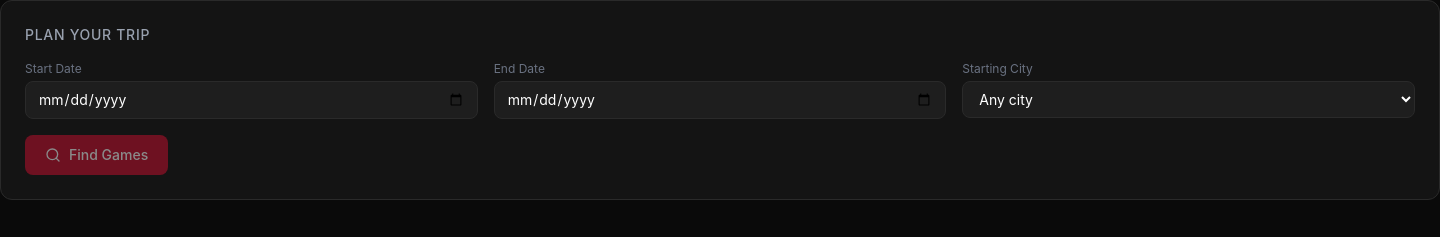
it: TripForm — submission › shows an error when end date is before start date
Type "2025-07-10" into the date field below "Start Date" at x=251, y=100, box [25,81,478,119]
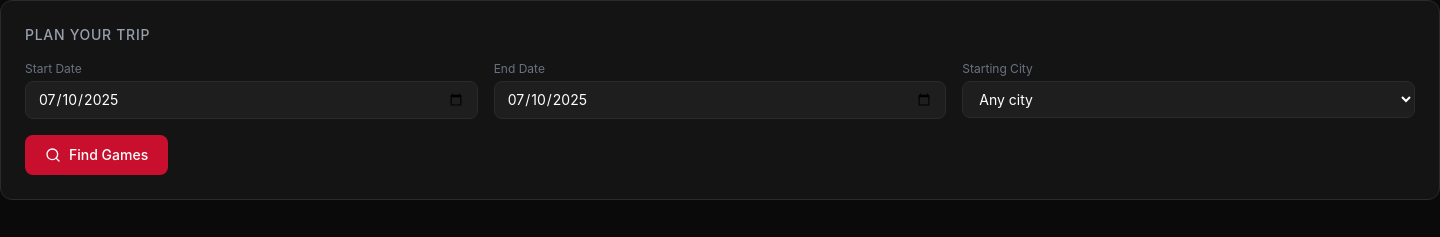
Type "2025-07-05" into the date field below "End Date" at x=720, y=100, box [494,81,946,119]
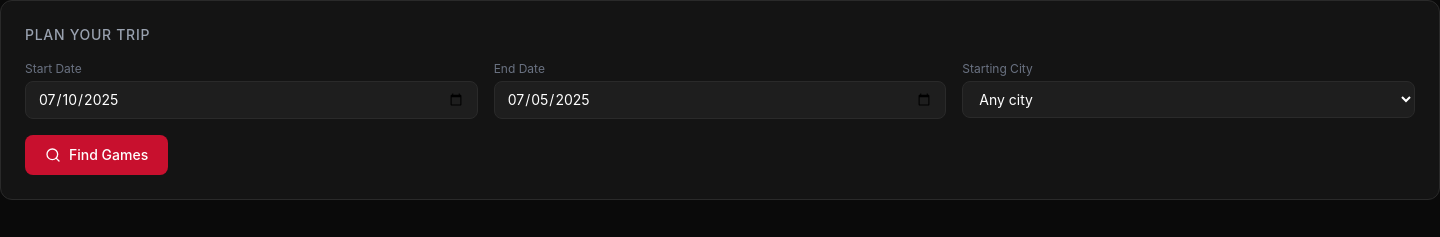
Submit the form
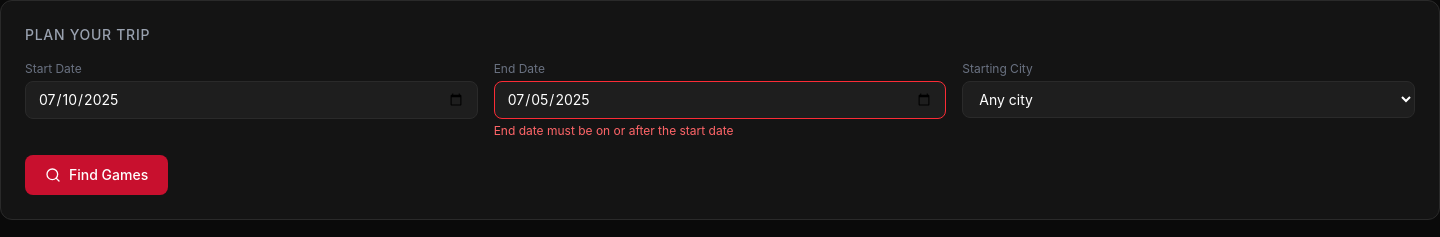
Expected: the text "End date must be on or after the start date" is shown, [494,123,734,138]
